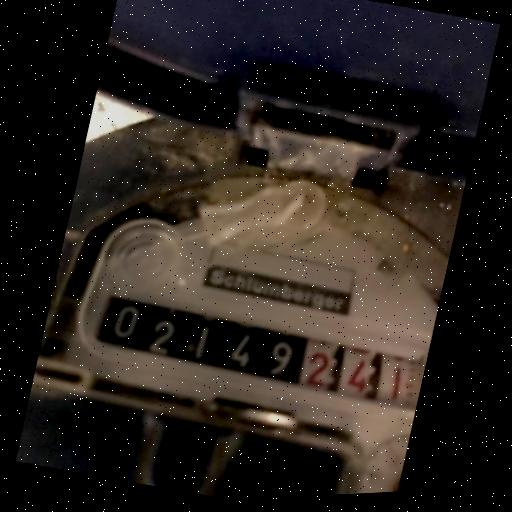0: (94, 291, 155, 356)
1: (370, 350, 424, 410), (178, 311, 227, 370)
2: (139, 301, 191, 362), (296, 338, 344, 395)
4: (214, 319, 267, 378), (333, 345, 383, 401)
9: (254, 329, 306, 386)
border_water_meter_number: (88, 274, 429, 428)
